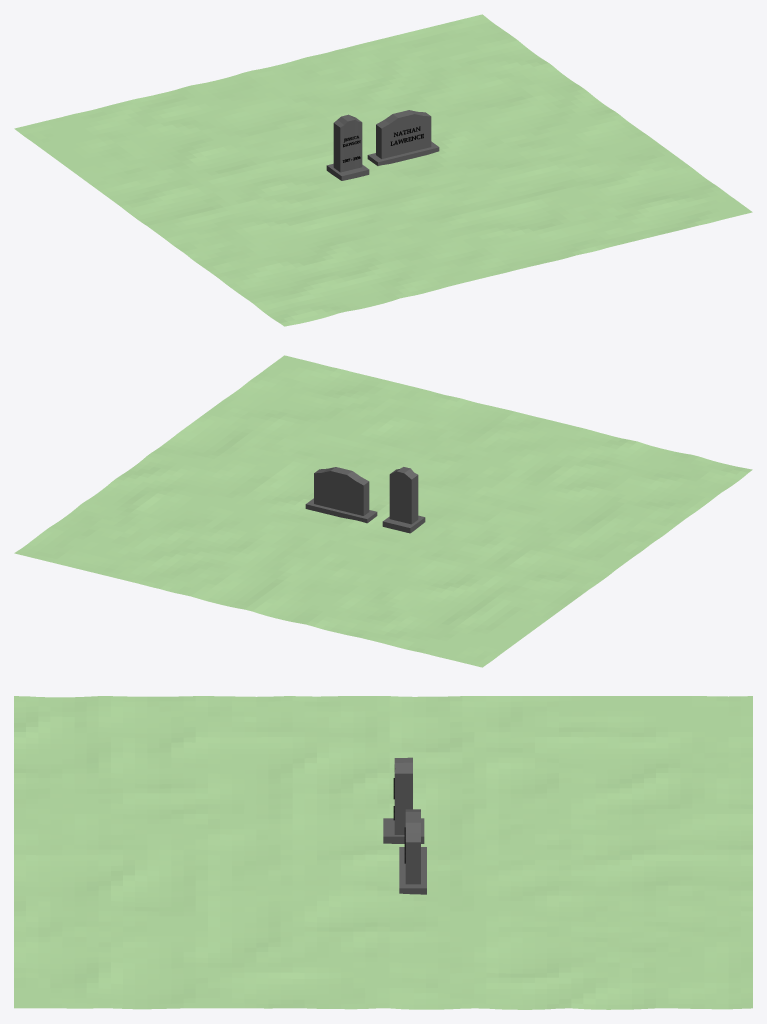
3 renders of one model, top to bottom at view 1: azimuth 30°, elevation 25°; view 2: azimuth 150°, elevation 25°; view 3: azimuth 270°, elevation 25°, orthographic. The views are drawn at different scales.
Visible parts, largest first — view 1: Plane, Grave Wide, Grave Tall; view 2: Plane, Grave Wide, Grave Tall; view 3: Plane, Grave Wide, Grave Tall.
Boxes of the visible parts, x1,y1,x2,y2 form: Plane: (14, 14, 752, 326); Grave Wide: (367, 110, 439, 165); Grave Tall: (326, 114, 369, 180); Plane: (14, 355, 752, 667); Grave Wide: (305, 467, 377, 523); Grave Tall: (382, 467, 425, 533); Plane: (14, 696, 752, 1009); Grave Wide: (399, 809, 426, 894); Grave Tall: (383, 757, 424, 843).
Bounding box in the file's own units: 1881 × 211 × 1881.
